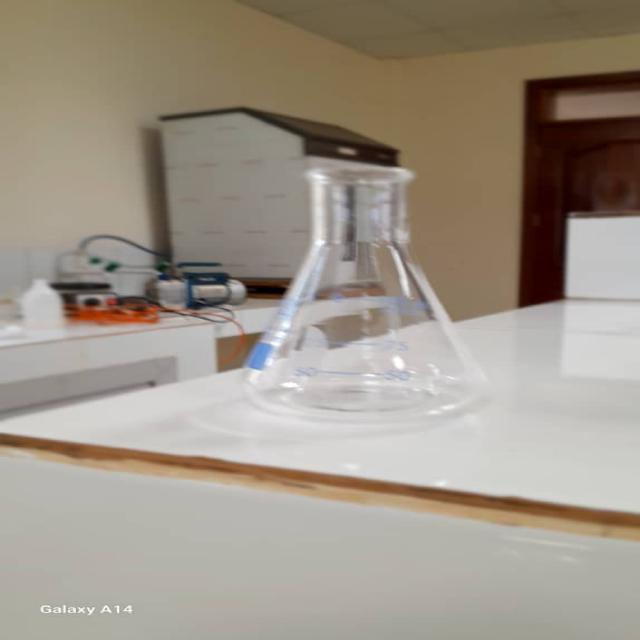Conical Flask: (231, 160, 505, 430)
